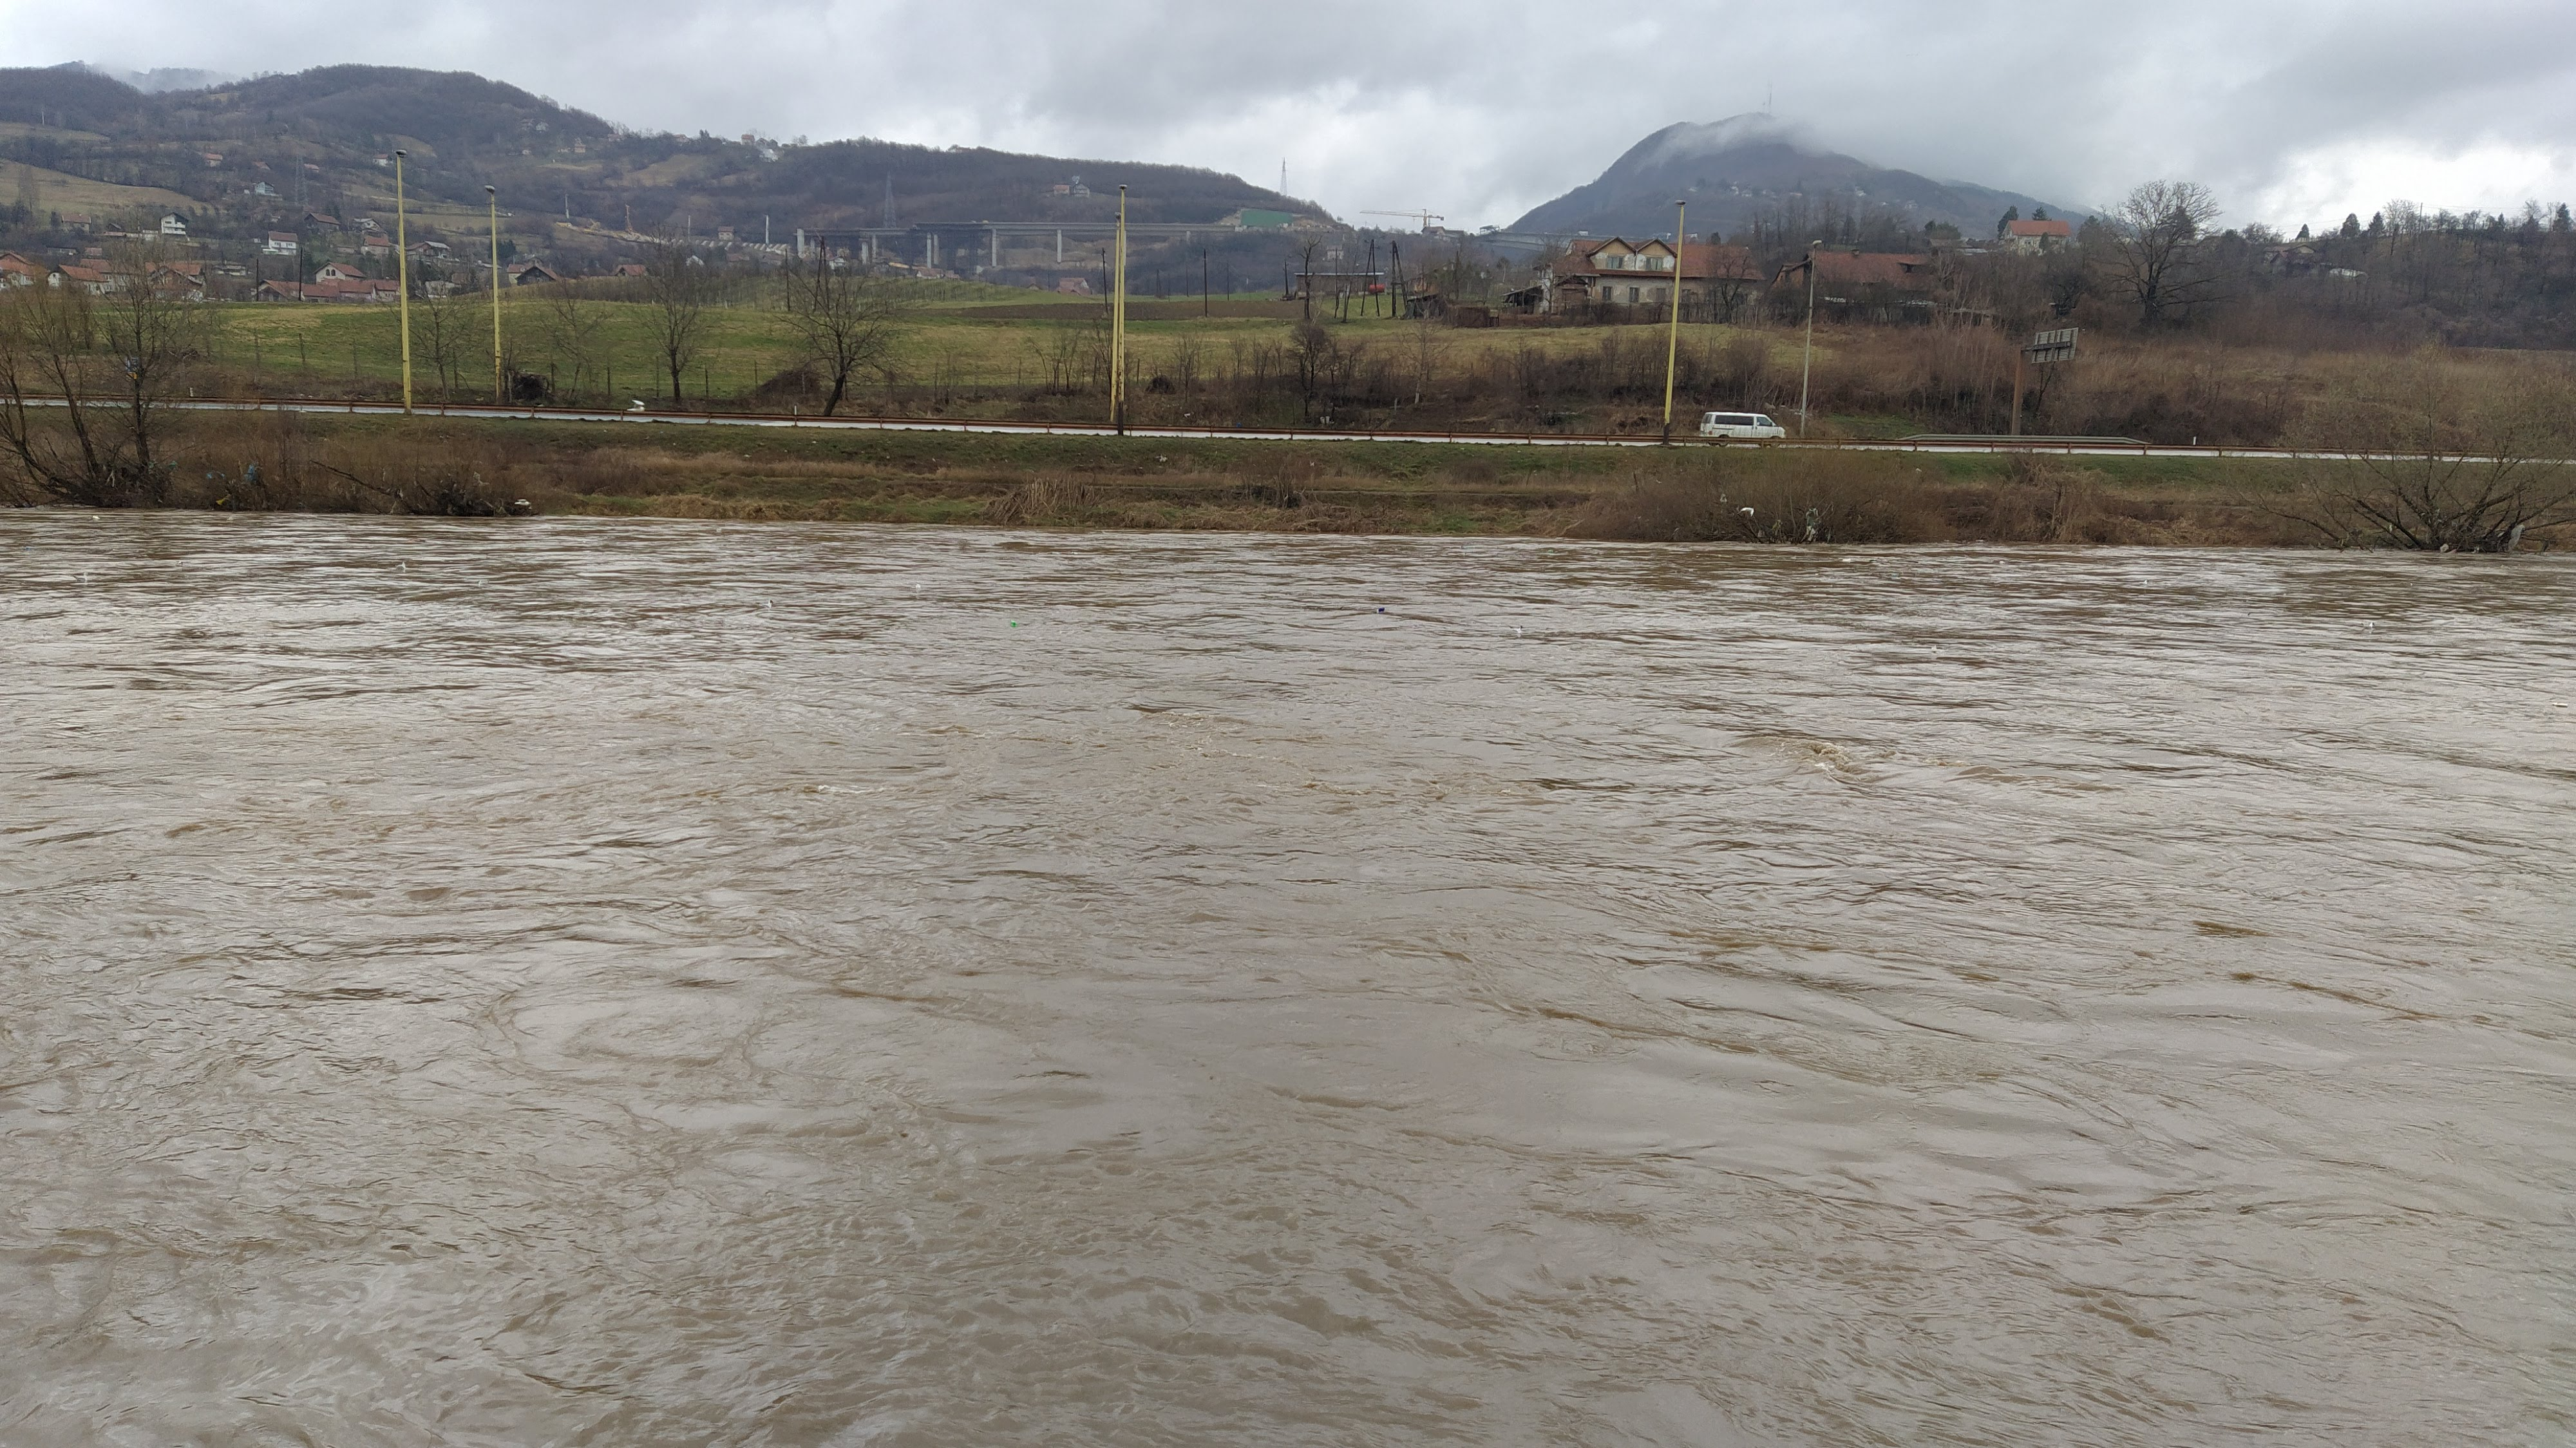Plastic Bottle: (2553, 703, 2567, 706), (478, 579, 488, 582), (1376, 607, 1385, 611), (1010, 620, 1016, 625), (92, 515, 99, 519), (25, 545, 30, 549)
